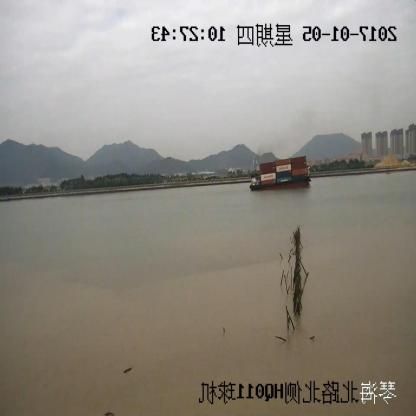Container Ship: (250, 156, 312, 190)
